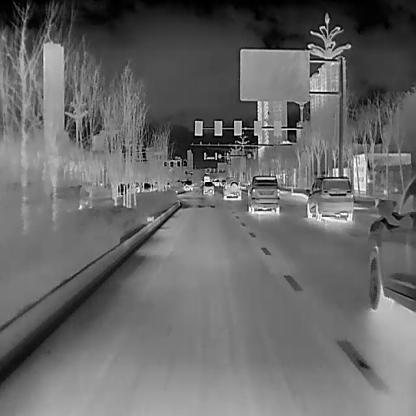car: (368, 173, 416, 314), (304, 175, 353, 220), (247, 175, 280, 214), (222, 175, 241, 200), (203, 181, 213, 195)
